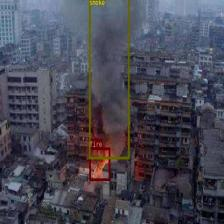fire: (89, 147, 110, 180)
smoke: (88, 0, 129, 159)
